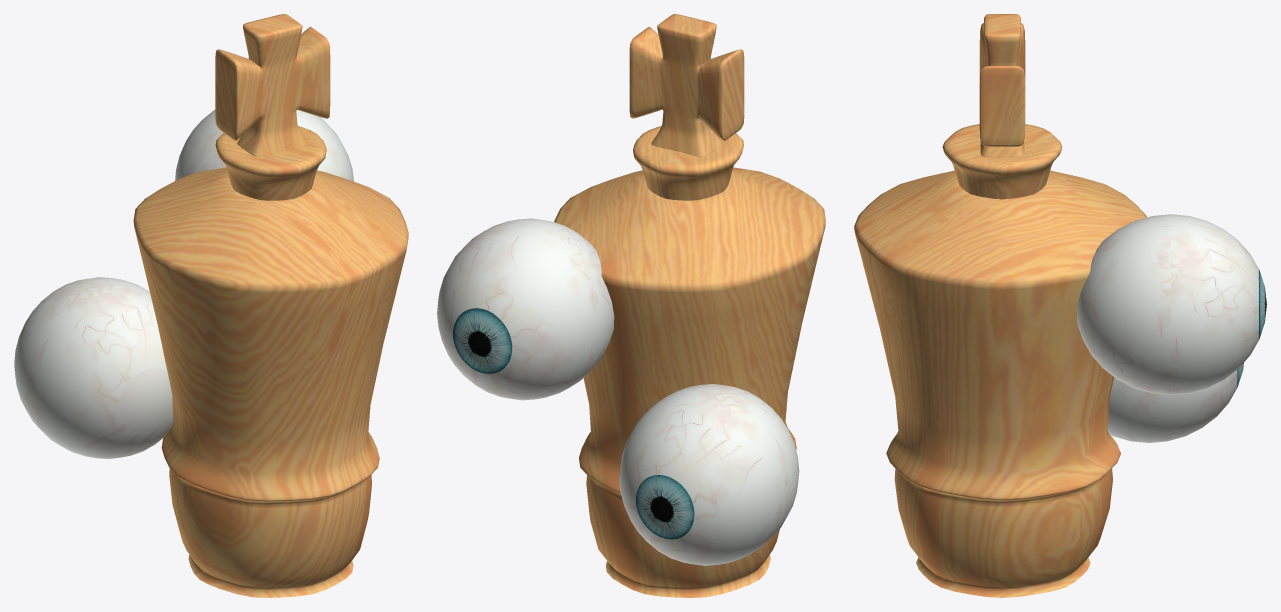
File: kinger.glb
The picture shows the model from 3 angles, left to right: view 1: azimuth 30°, elevation 25°; view 2: azimuth 150°, elevation 25°; view 3: azimuth 270°, elevation 25°; orthographic projection.
Visible parts, largest first — view 1: kinger; view 2: kinger; view 3: kinger.
Boxes of the visible parts, x1,y1,x2,y2 form: kinger: (14, 14, 408, 597); kinger: (437, 14, 825, 597); kinger: (854, 14, 1266, 597).
Bounding box in the file's own units: 1.25 × 1.98 × 1.37.
Materials: 2 (2 with a texture image).
